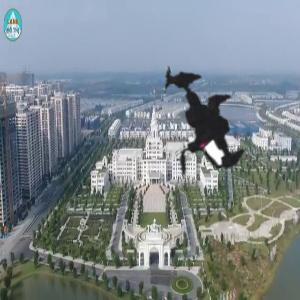drone: (106, 36, 284, 214)
